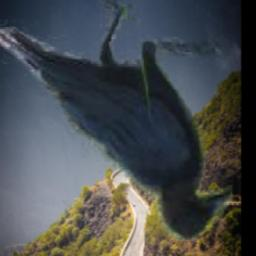Crow: (0, 0, 233, 242)
